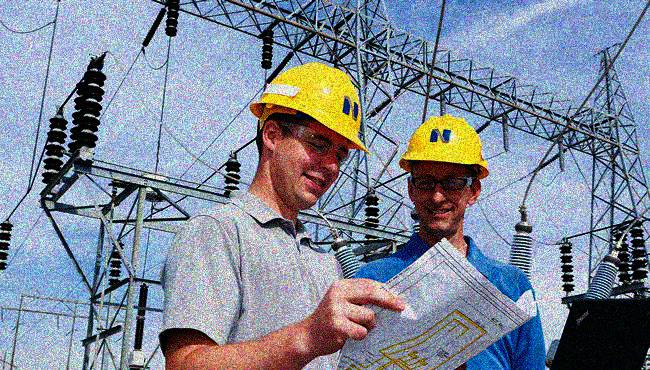helmet: (246, 62, 369, 211), (397, 112, 488, 232)
